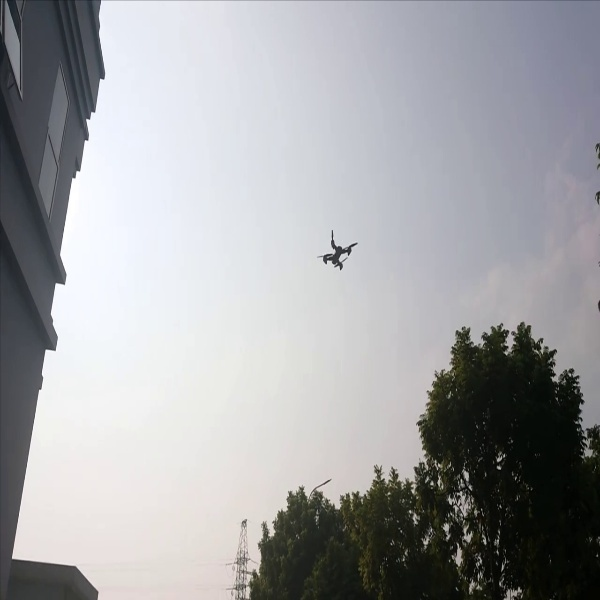drone: (313, 227, 361, 277)
